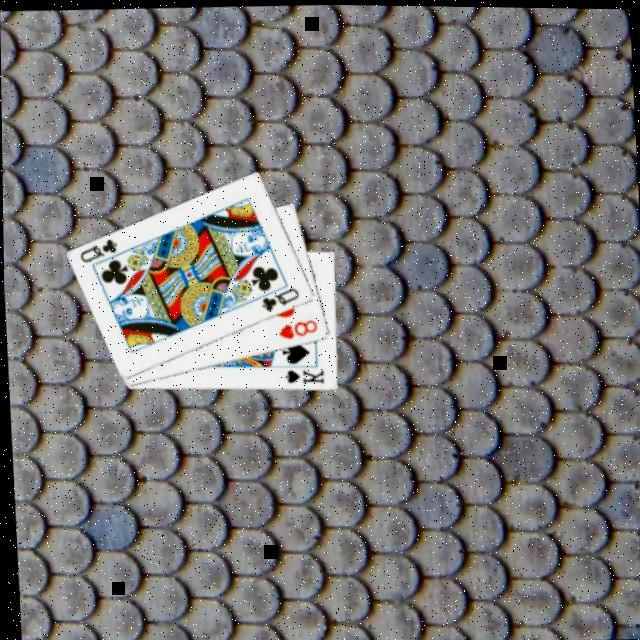8H: (272, 314, 318, 341)
KS: (278, 363, 325, 386)
QC: (73, 232, 118, 266), (254, 281, 300, 313)
